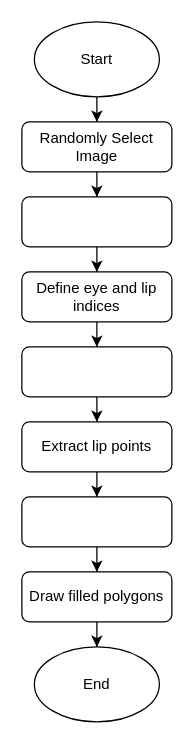
Some shapes in this 194 by 744 pixel diagram are drawn without their labels. Here are the shapes that lost their labels. From the top down, the centre of each, then its label:
the point at 96,221: Get predicted points from model
the point at 96,371: Extract eye points
the point at 96,521: Plot image
